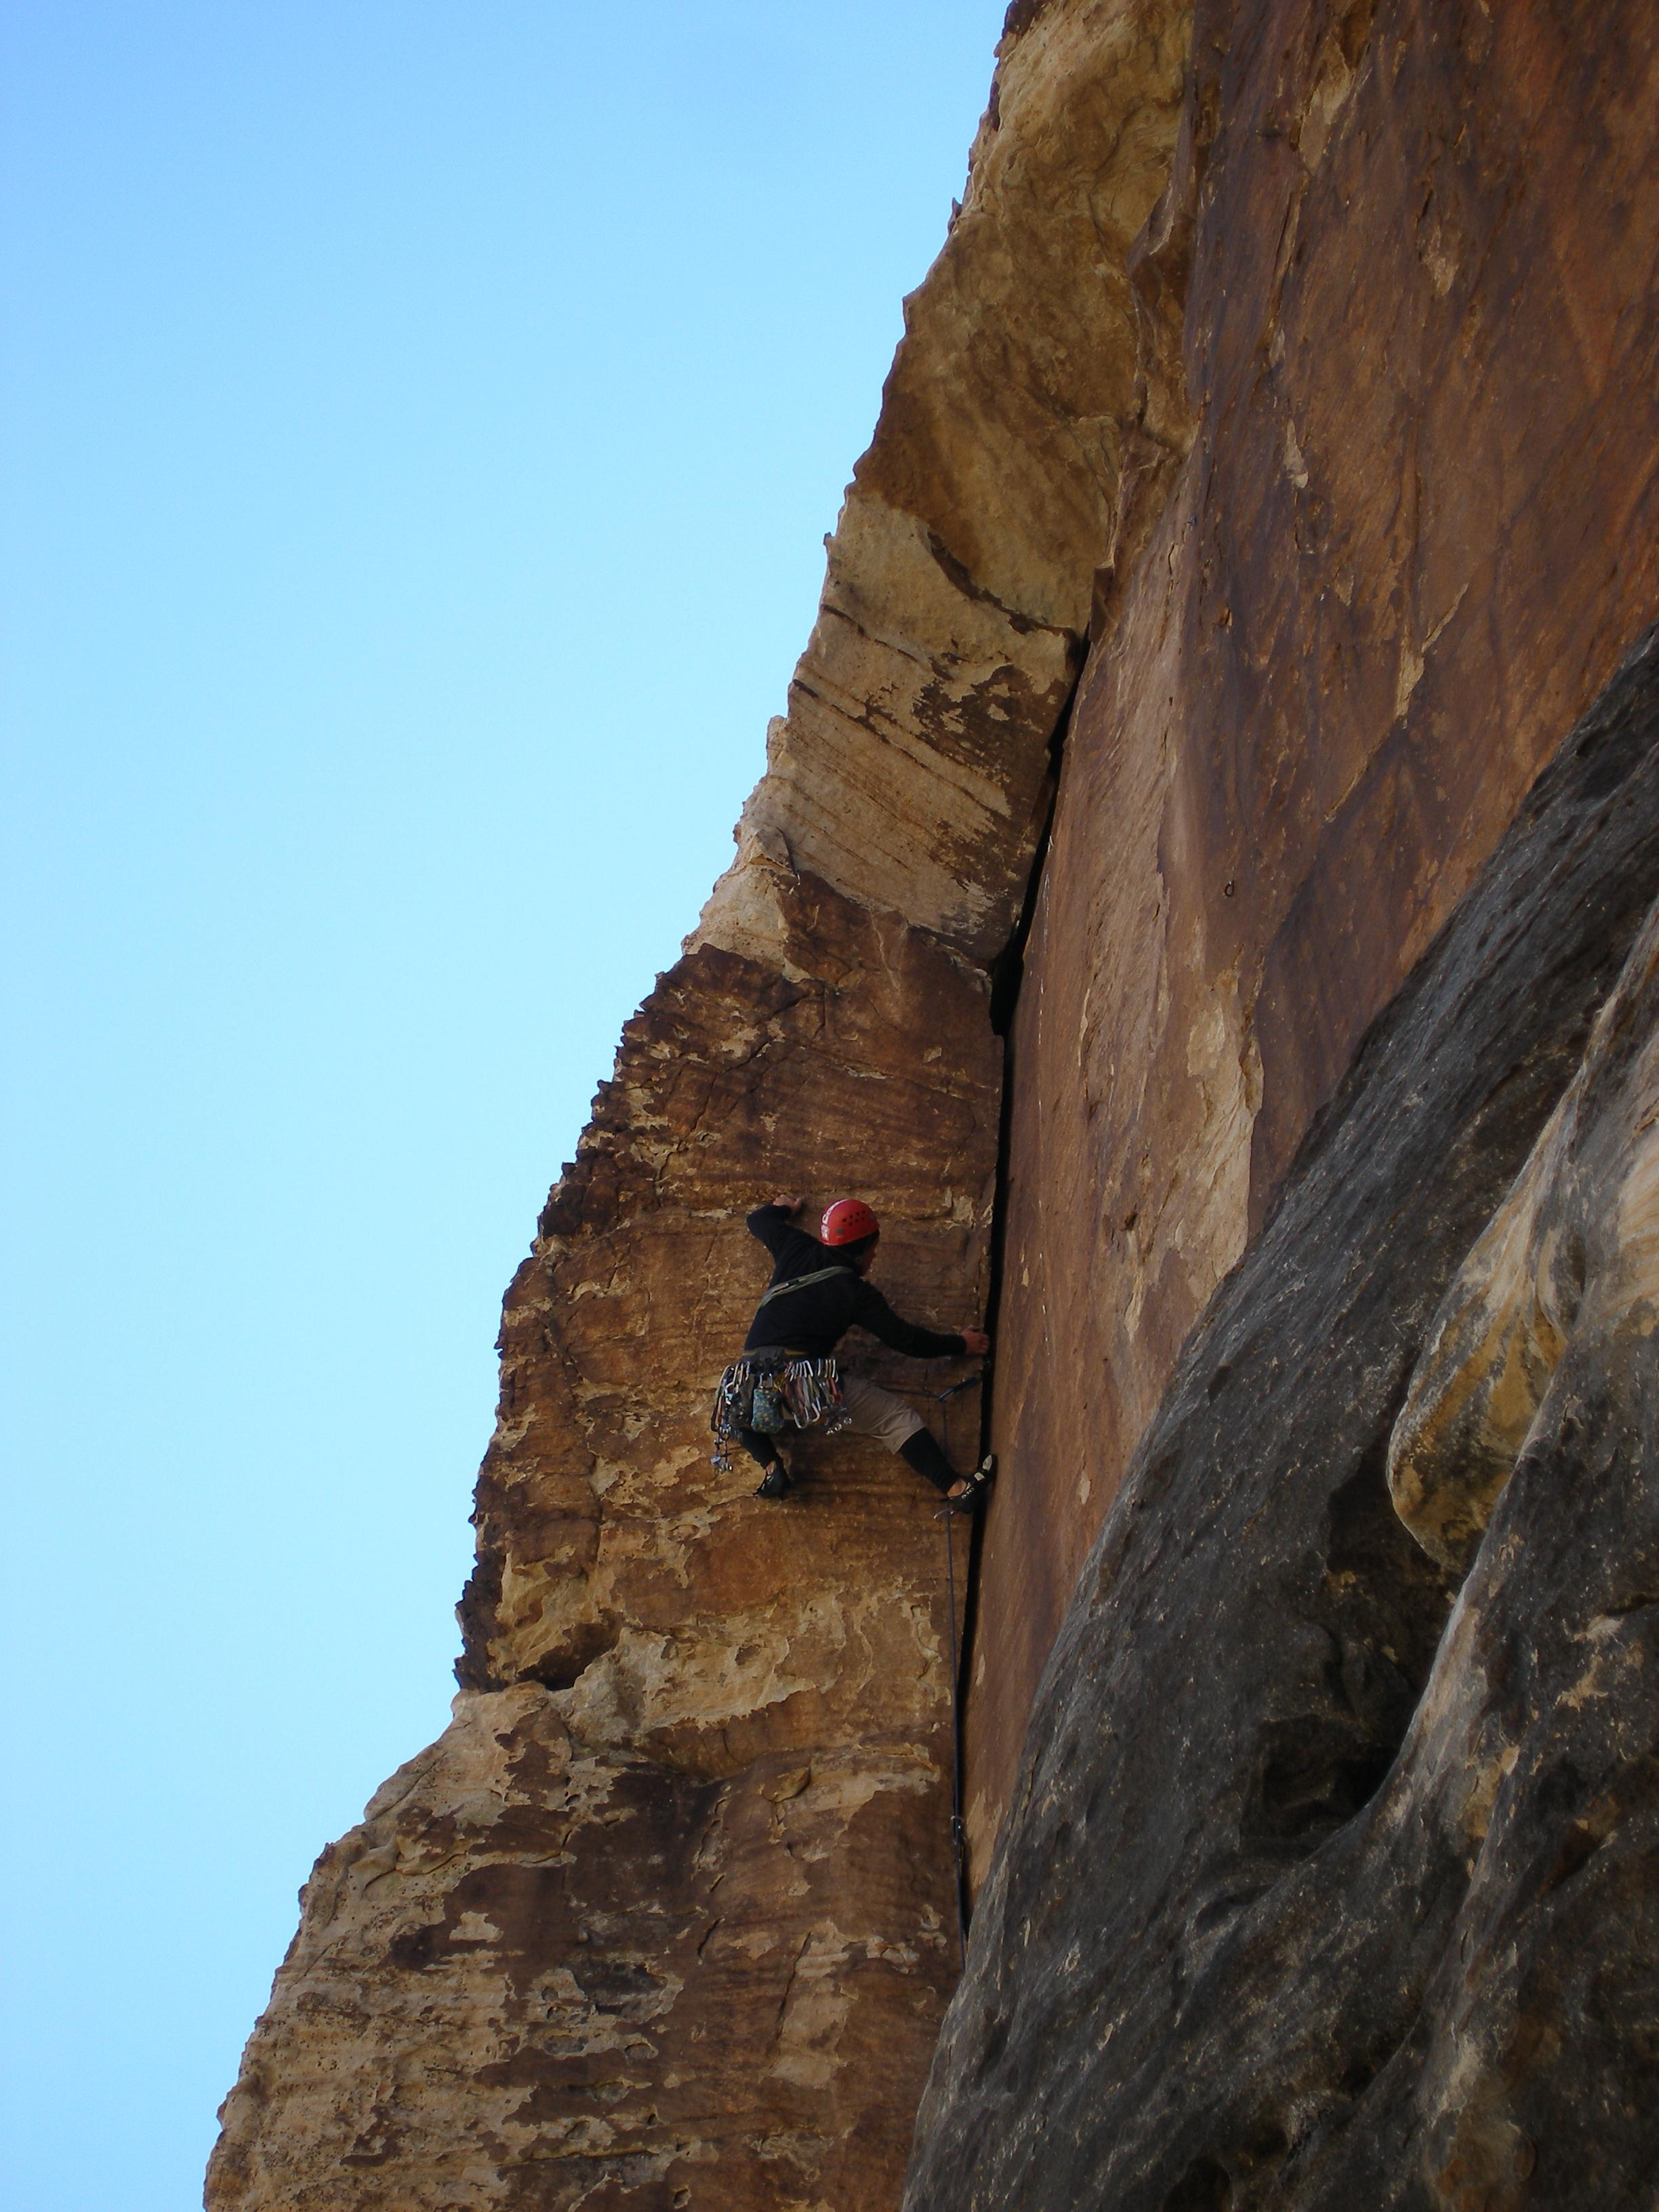helmet: (805, 1188, 890, 1264)
